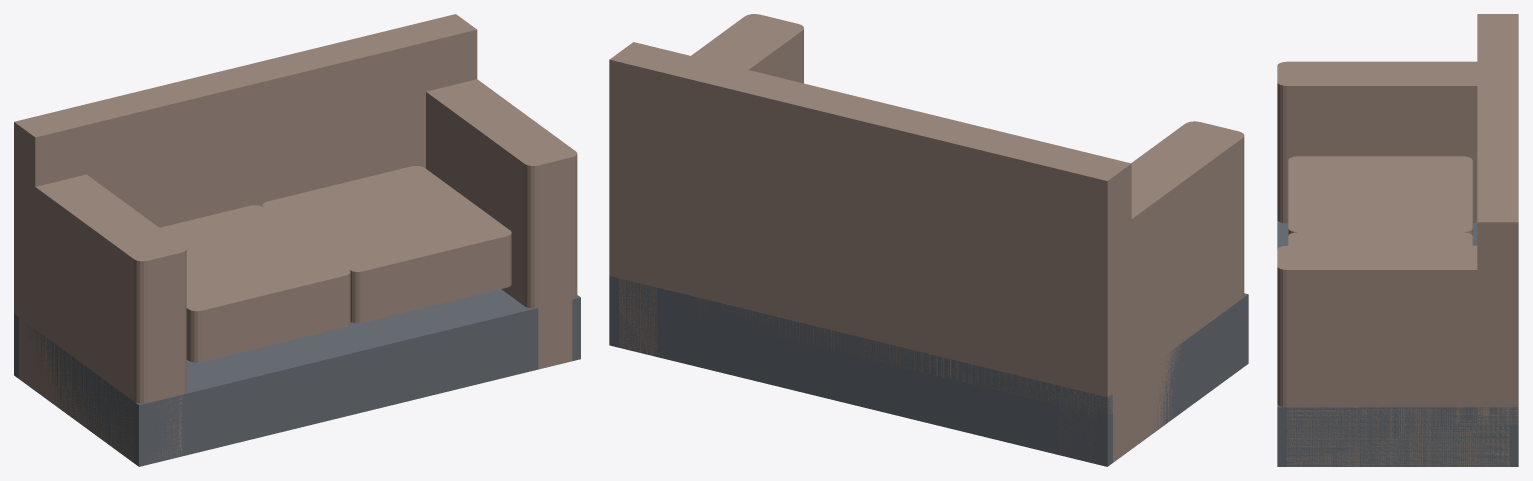
Rendered from g-reception-o02-624e270492.glb.
3 views of the same model, side by side, from view 1: azimuth 30°, elevation 25°; view 2: azimuth 150°, elevation 25°; view 3: azimuth 270°, elevation 25° (orthographic). The views are drawn at different scales.
Visible parts, largest first — view 1: back, base, arm-2, arm-3, seat-cushion-1, seat-cushion-0; view 2: back, base, arm-2, arm-3; view 3: arm-3, arm-2, back, base, seat-cushion-0, seat-cushion-1.
Part boxes in pixels (left/top/right/bottom): back: left=14, top=14, right=477, bottom=320; base: left=14, top=289, right=580, bottom=466; arm-2: left=19, top=174, right=186, bottom=462; arm-3: left=426, top=79, right=577, bottom=369; seat-cushion-1: left=262, top=166, right=511, bottom=323; seat-cushion-0: left=160, top=205, right=350, bottom=362; back: left=609, top=42, right=1131, bottom=416; base: left=609, top=276, right=1248, bottom=466; arm-2: left=1059, top=121, right=1244, bottom=462; arm-3: left=619, top=14, right=803, bottom=355; arm-3: left=1277, top=245, right=1509, bottom=466; arm-2: left=1277, top=61, right=1477, bottom=223; back: left=1477, top=14, right=1518, bottom=424; base: left=1277, top=220, right=1518, bottom=466; seat-cushion-0: left=1288, top=156, right=1472, bottom=235; seat-cushion-1: left=1288, top=232, right=1472, bottom=245.
Bounding box in the file's own units: 1.55 × 0.85 × 0.76.
